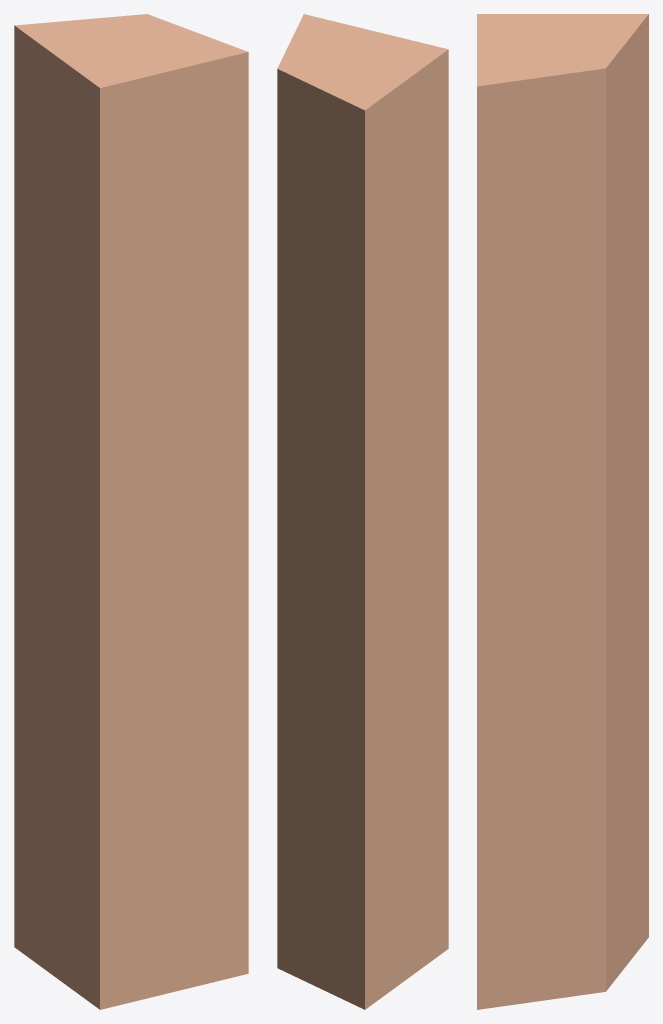
Rendered from cliff_corner_rock.glb.
3 renders of one model, left to right at view 1: azimuth 30°, elevation 25°; view 2: azimuth 150°, elevation 25°; view 3: azimuth 270°, elevation 25°, orthographic. The views are drawn at different scales.
Visible parts, largest first — view 1: cliff_corner_rock; view 2: cliff_corner_rock; view 3: cliff_corner_rock.
Part boxes in pixels (bbox=[...]): cliff_corner_rock: bbox=[14, 14, 248, 1009]; cliff_corner_rock: bbox=[277, 14, 448, 1009]; cliff_corner_rock: bbox=[477, 14, 648, 1009].
Size of the model in its own units: 0.1685 by 1 by 0.1685.
